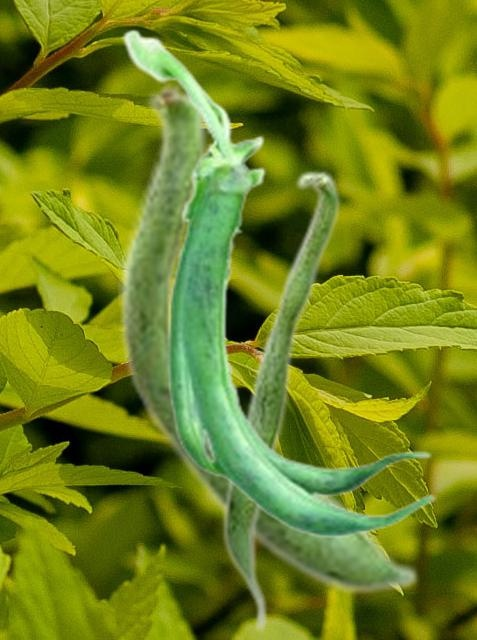french_bean: (121, 28, 435, 538), (118, 82, 419, 595), (221, 169, 340, 634)
